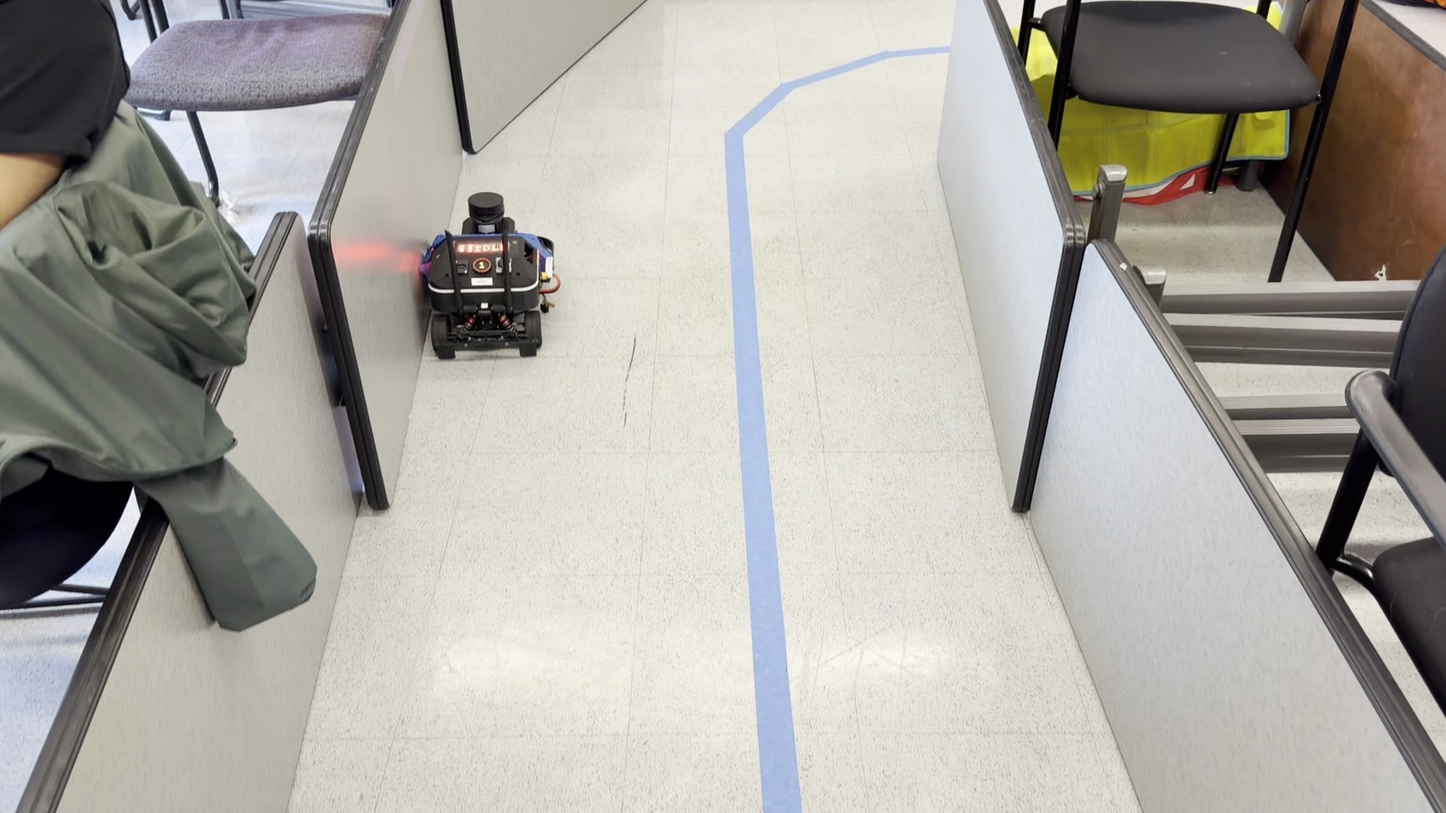racecar: (416, 191, 558, 359)
